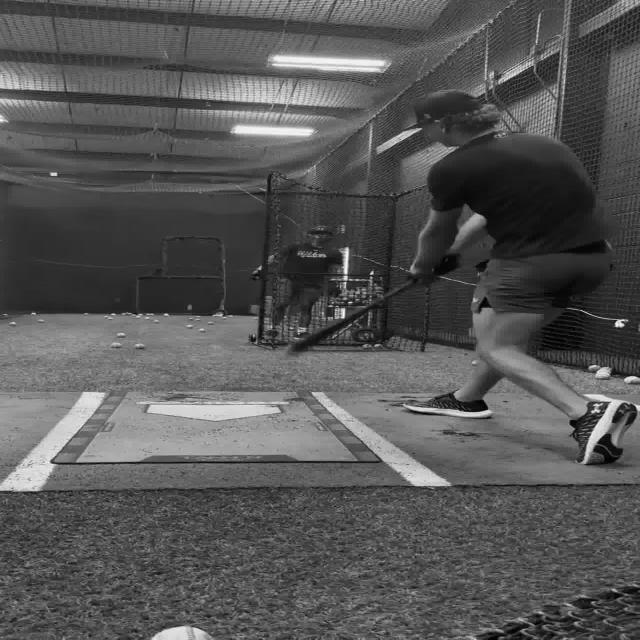base: (153, 405, 284, 419)
baseball: (150, 626, 214, 640), (594, 366, 612, 378), (623, 376, 639, 384), (588, 364, 600, 372), (110, 342, 122, 348), (134, 343, 144, 349), (116, 332, 126, 338), (470, 360, 478, 366), (8, 322, 16, 326), (207, 321, 215, 325), (198, 328, 205, 332), (37, 318, 44, 322), (186, 324, 193, 328), (83, 312, 88, 316), (30, 312, 36, 315)
bat: (288, 258, 436, 354)
shoe: (568, 399, 637, 465), (400, 390, 492, 418)
